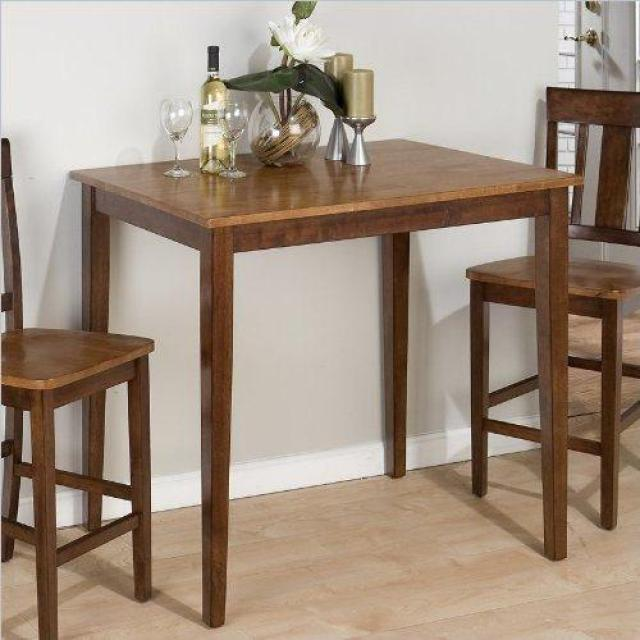table: (72, 140, 584, 630)
